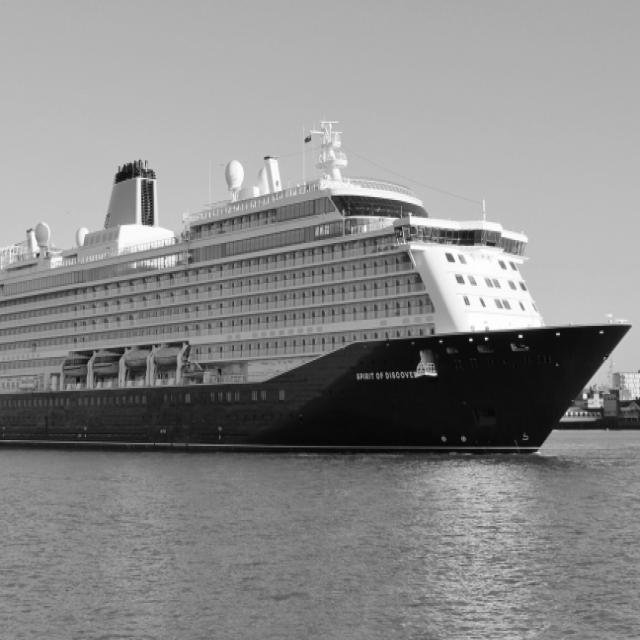cruises: (1, 112, 637, 463)
